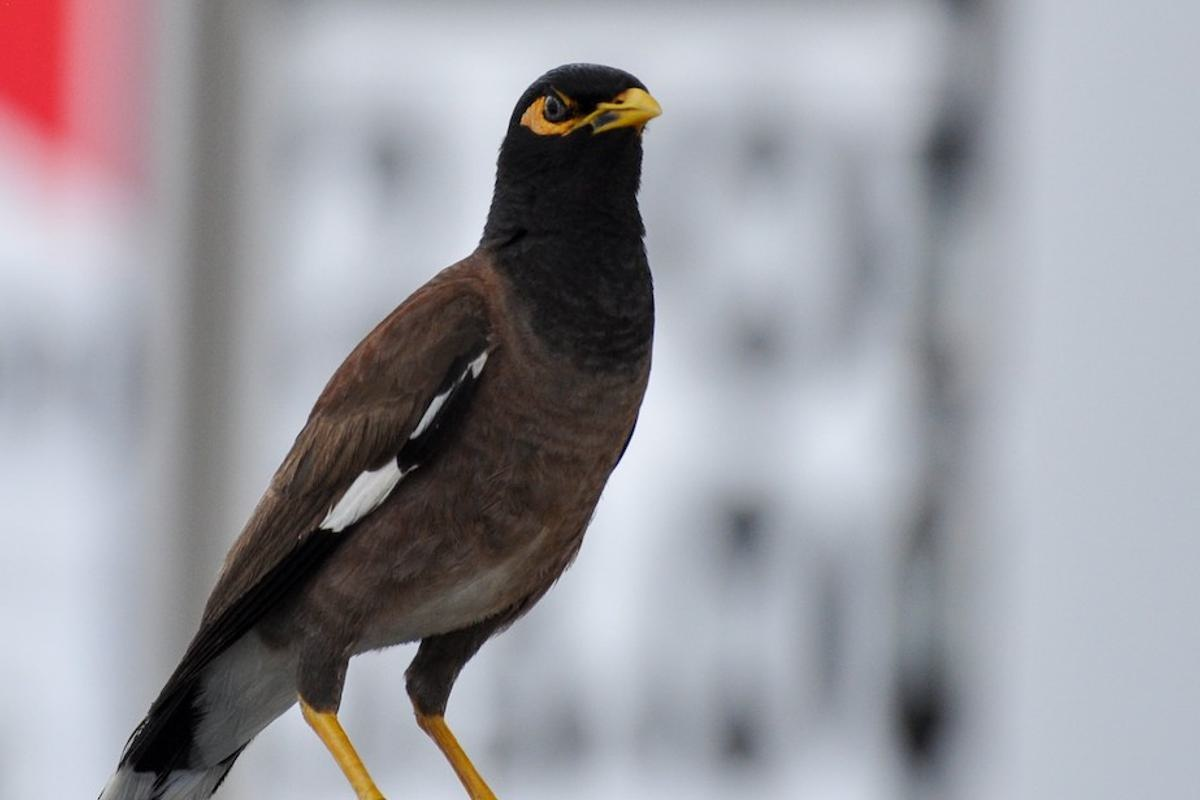myna: (170, 56, 684, 775)
